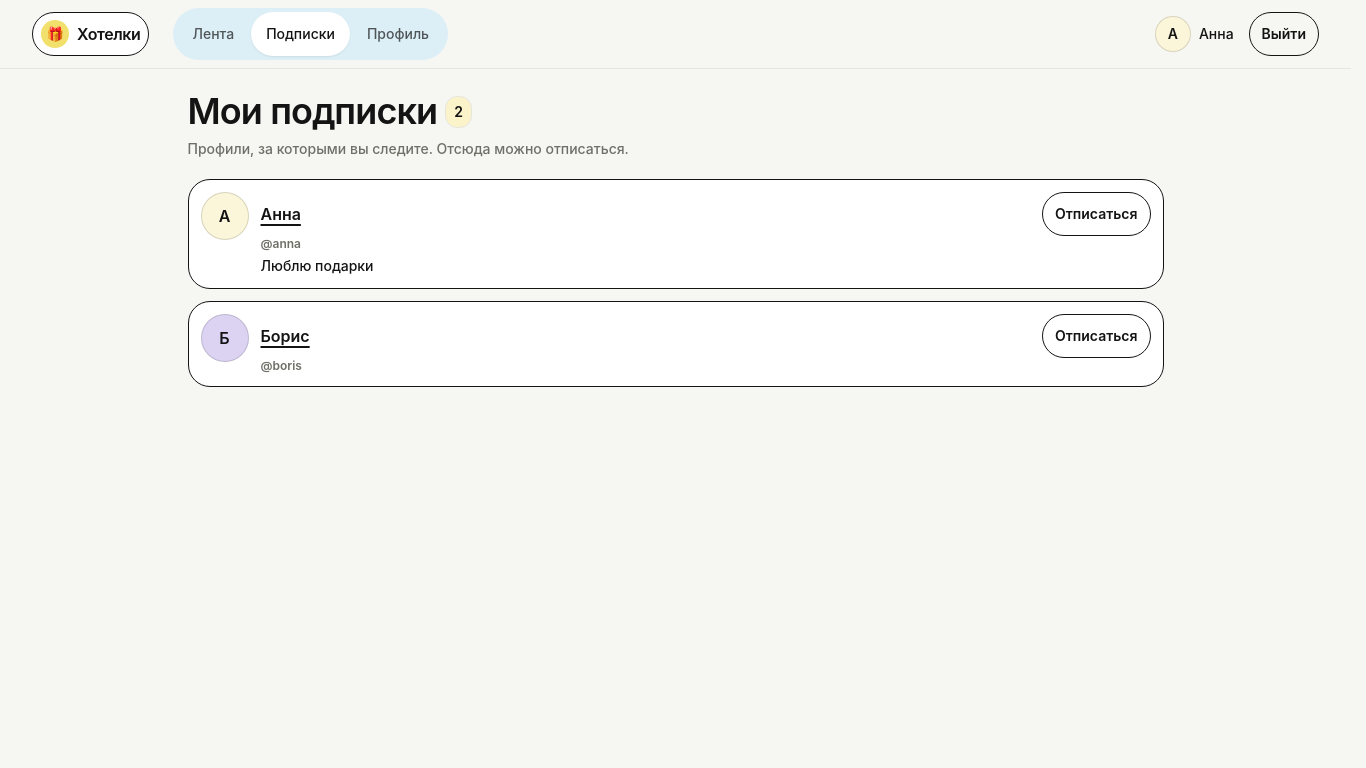
мои подписки › рендерит список и позволяет отписаться
Expected: the heading "Мои подписки" is shown, 188,93 -> 437,131
Expected: the link "Борис" is shown, 260,326 -> 310,346
Click the 1st button "Отписаться" at (1096, 214), box 1042,192 -> 1150,236
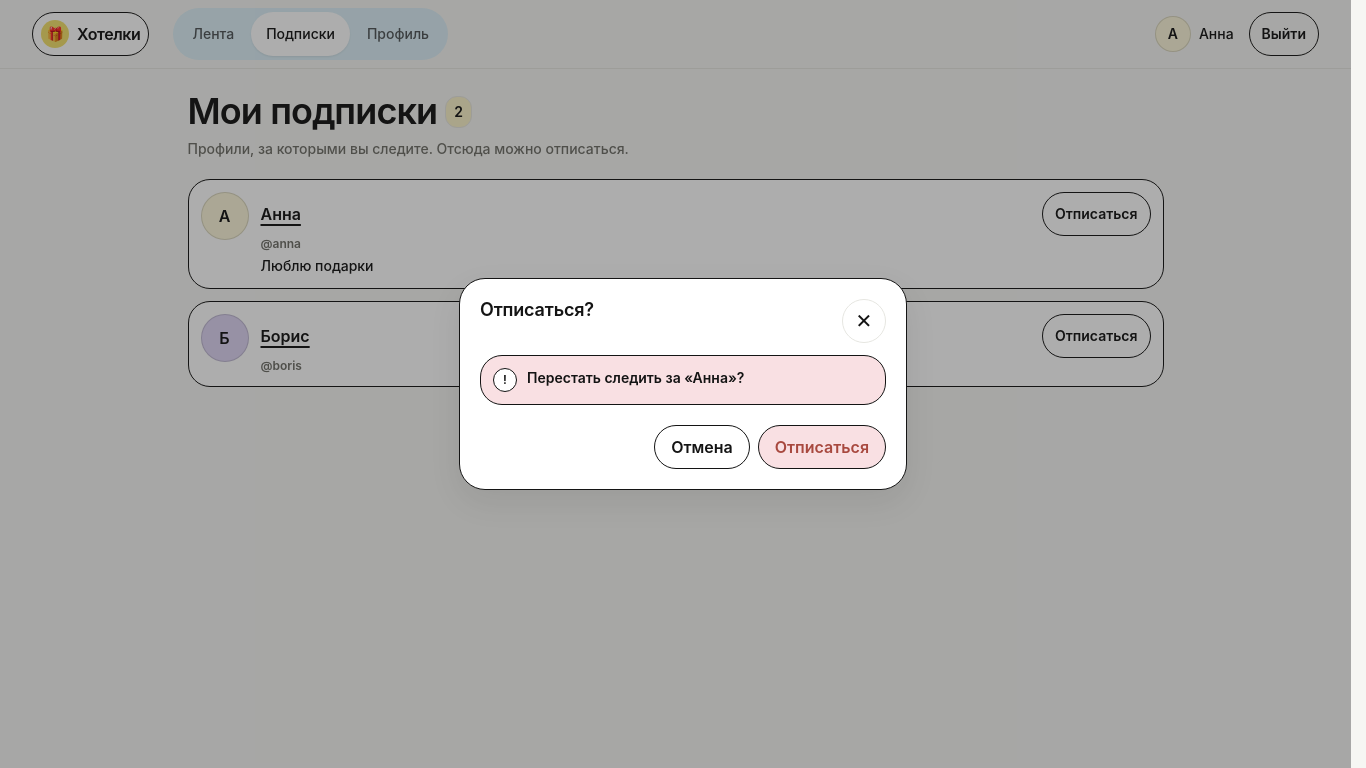
Expected: the text "Перестать следить за «Анна»?" is shown, 527,369 -> 744,386
Click the button "Отписаться" at (822, 447), box 758,425 -> 886,469
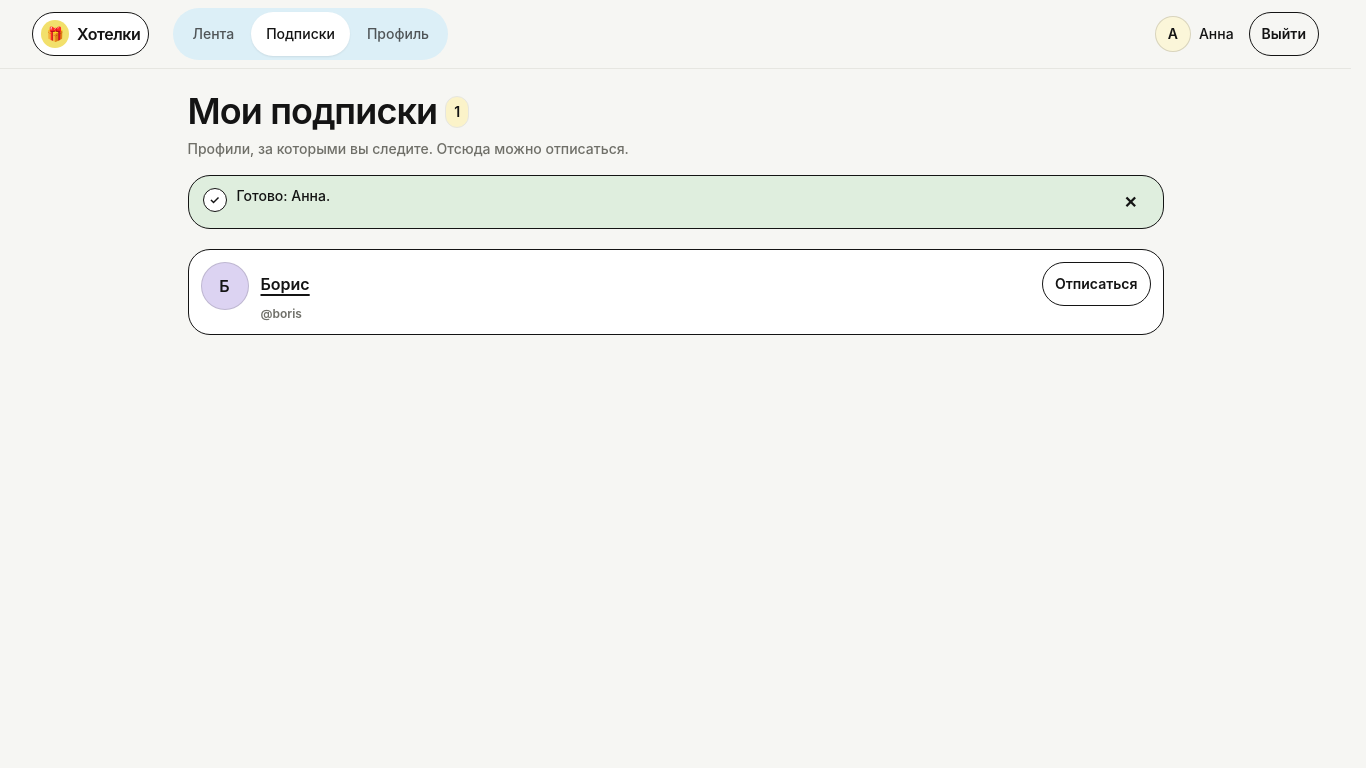
Expected: the text "Готово: Анна." is shown, 236,187 -> 330,204
